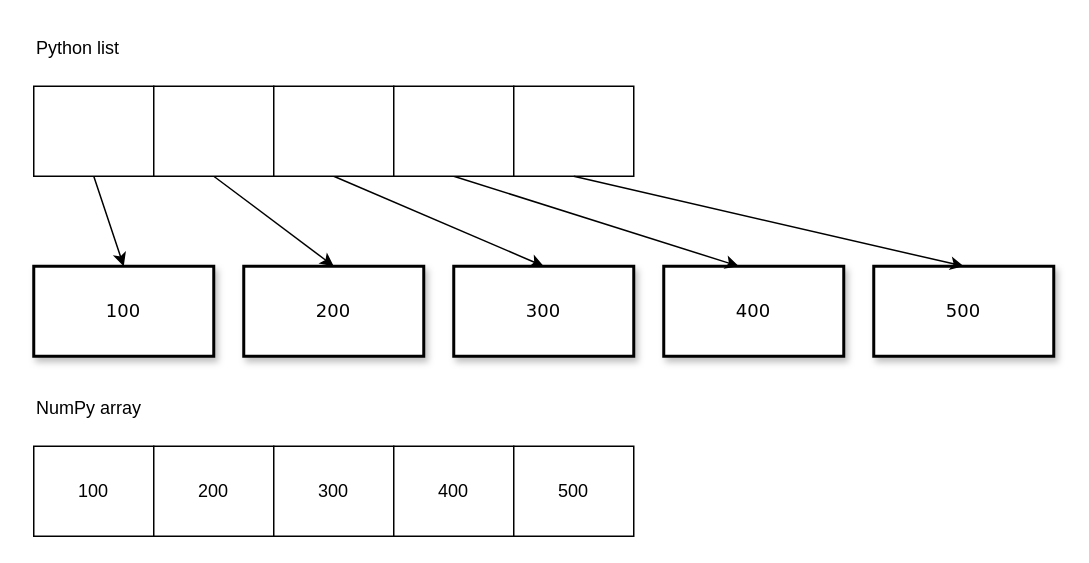
The diagram is 1089 pixels wide and 563 high, and some of its shapes have lost their labels. The shapes that lost their labels are listed below. From the top down, each one's centre as x and y in pixels, then its label:
At point (93, 130): "0xF37A".
At point (213, 130): "0xC17B".
At point (333, 130): "0xF370".
At point (453, 130): "0x8A34".
At point (573, 130): "0xD3C9".
